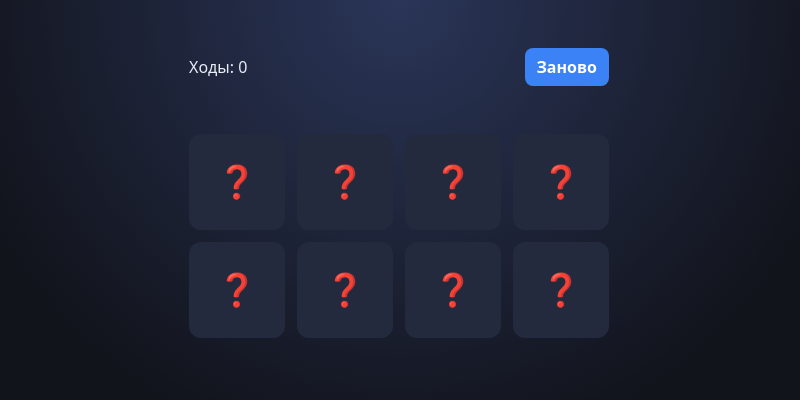
Test: MemoryGame › считает ход после открытия двух карточек
Step 1. Click the button named "Карточка" → (237, 182), box x1=189 y1=134 x2=285 y2=230
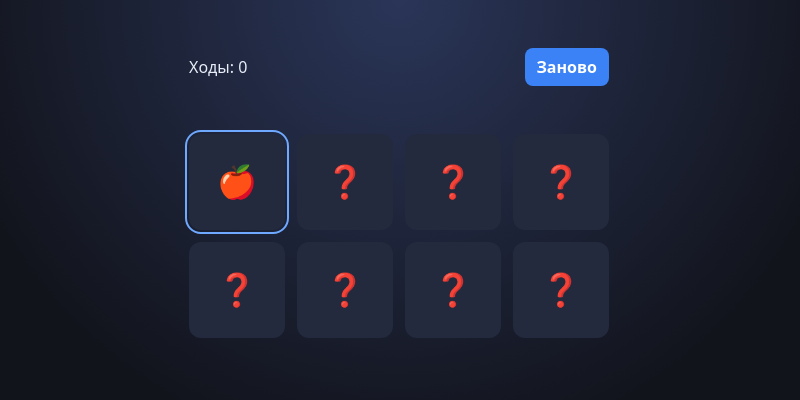
Expected: the text "Ходы: 0" is shown, x1=189 y1=56 x2=247 y2=78
Step 2. Click the button named "Карточка" → (237, 290), box x1=189 y1=242 x2=285 y2=338
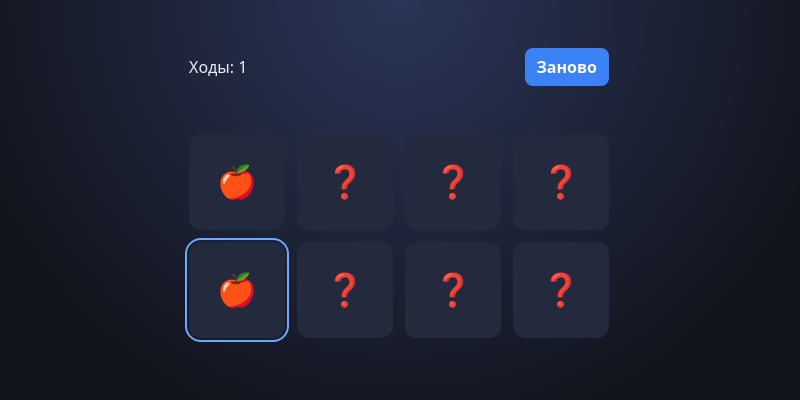
Expected: the text "Ходы: 1" is shown, x1=189 y1=56 x2=247 y2=78
